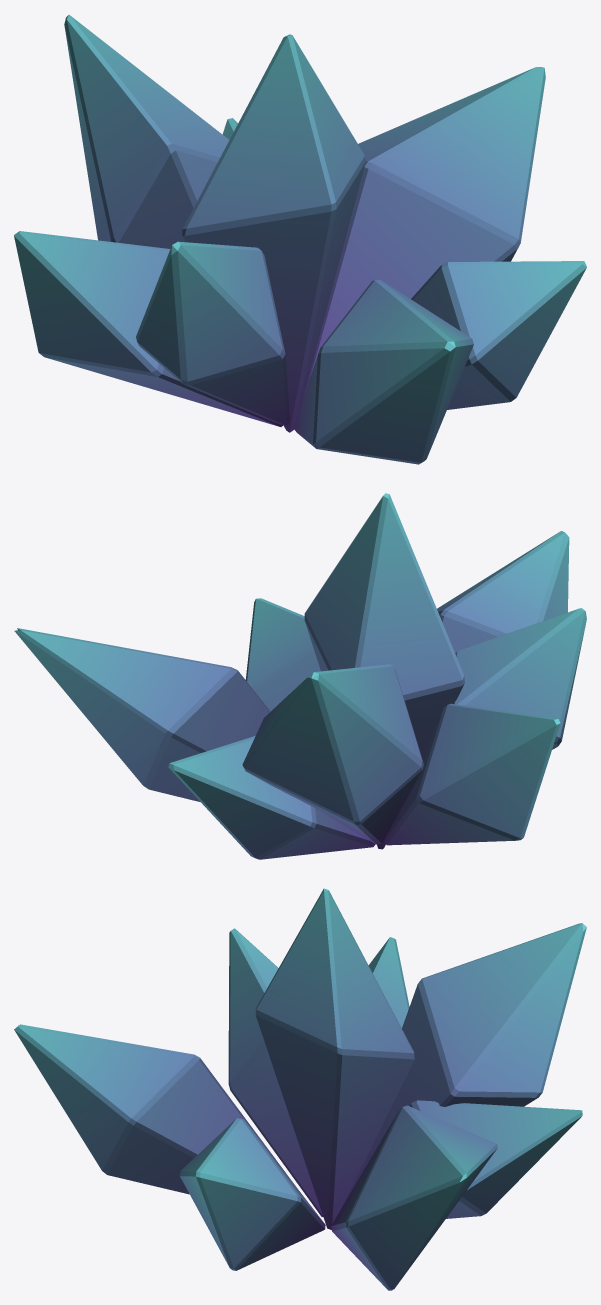
Rendered from arvore_copa.fbx.
3 views of the same model, one above another, from view 1: azimuth 30°, elevation 25°; view 2: azimuth 150°, elevation 25°; view 3: azimuth 270°, elevation 25° (orthographic). The views are drawn at different scales.
Visible parts, largest first — view 1: arvore_copa; view 2: arvore_copa; view 3: arvore_copa.
Part boxes in pixels (left/top/right/bottom): arvore_copa: left=14, top=14, right=586, bottom=464; arvore_copa: left=14, top=493, right=586, bottom=859; arvore_copa: left=14, top=888, right=586, bottom=1290.
Bounding box in the file's own units: 5.14 × 3.42 × 5.24.
